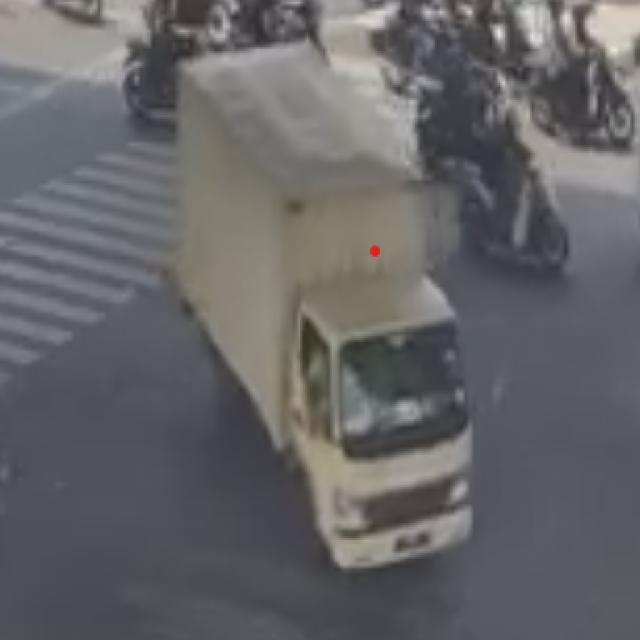Truck: (167, 38, 479, 570)
